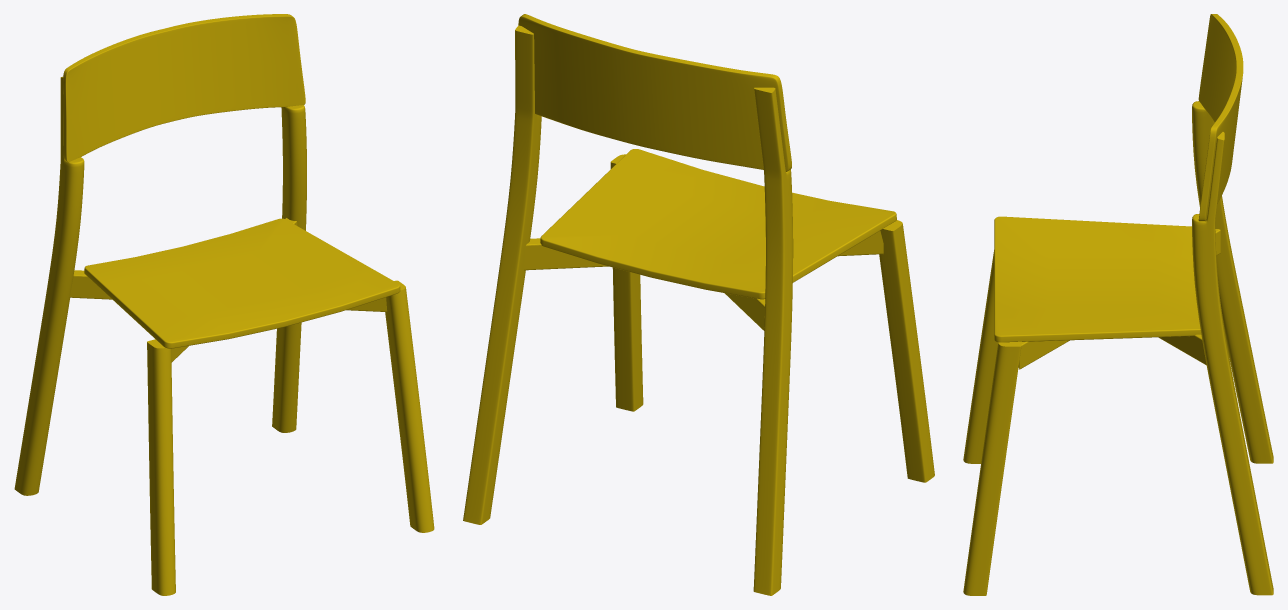
Rendered from JANINGE_Chair.obj.
The picture shows the model from 3 angles, left to right: view 1: azimuth 30°, elevation 25°; view 2: azimuth 150°, elevation 25°; view 3: azimuth 270°, elevation 25°; orthographic projection. The views are drawn at different scales.
Visible parts, largest first — view 1: Generic_Models, Box002, Box001, Box006, Box007, Box003, Generic_Models001; view 2: Generic_Models, Box002, Box001, Box003, Box006, Box007, Generic_Models001; view 3: Generic_Models, Box003, Box001, Box007, Box002, Box006, Generic_Models001.
Boxes of the visible parts, <box> form: Generic_Models: <box>84,218,400,362</box>; Box002: <box>63,14,305,162</box>; Box001: <box>14,76,84,495</box>; Box006: <box>147,339,175,595</box>; Box007: <box>385,280,434,532</box>; Box003: <box>272,105,306,432</box>; Generic_Models001: <box>69,270,387,311</box>; Generic_Models: <box>524,149,896,299</box>; Box002: <box>518,14,791,171</box>; Box001: <box>753,87,793,595</box>; Box003: <box>463,25,541,524</box>; Box006: <box>879,220,934,482</box>; Box007: <box>610,154,643,411</box>; Generic_Models001: <box>724,293,765,330</box>; Generic_Models: <box>994,216,1206,365</box>; Box003: <box>1192,132,1273,595</box>; Box001: <box>1192,101,1273,463</box>; Box007: <box>963,341,1021,595</box>; Box002: <box>1198,14,1243,221</box>; Box006: <box>963,250,998,463</box>; Generic_Models001: <box>1018,229,1220,369</box>.
Size of the model in its own units: 501 by 761 by 467.
